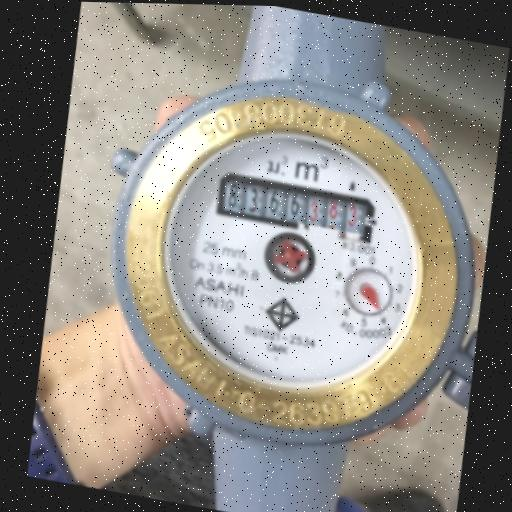3: (241, 185, 263, 215), (303, 196, 324, 226), (343, 202, 363, 233)
6: (284, 190, 304, 223), (263, 187, 283, 218)
8: (221, 180, 243, 212), (322, 198, 343, 230)
border_water_meter_number: (212, 169, 378, 244)
